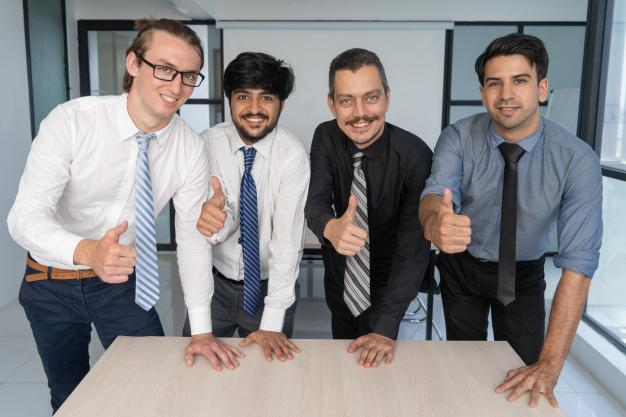thumbsup: (101, 220, 138, 283), (438, 187, 472, 254), (336, 194, 368, 256), (196, 175, 227, 237)
